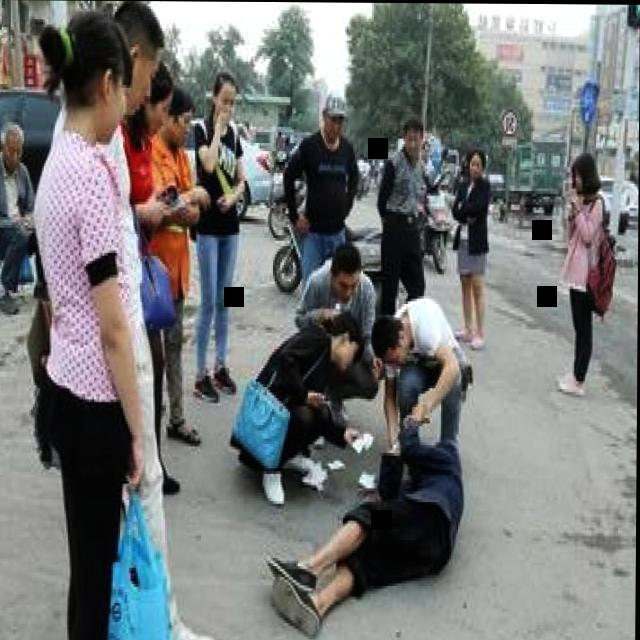Fall-Detected: (266, 419, 476, 640)
